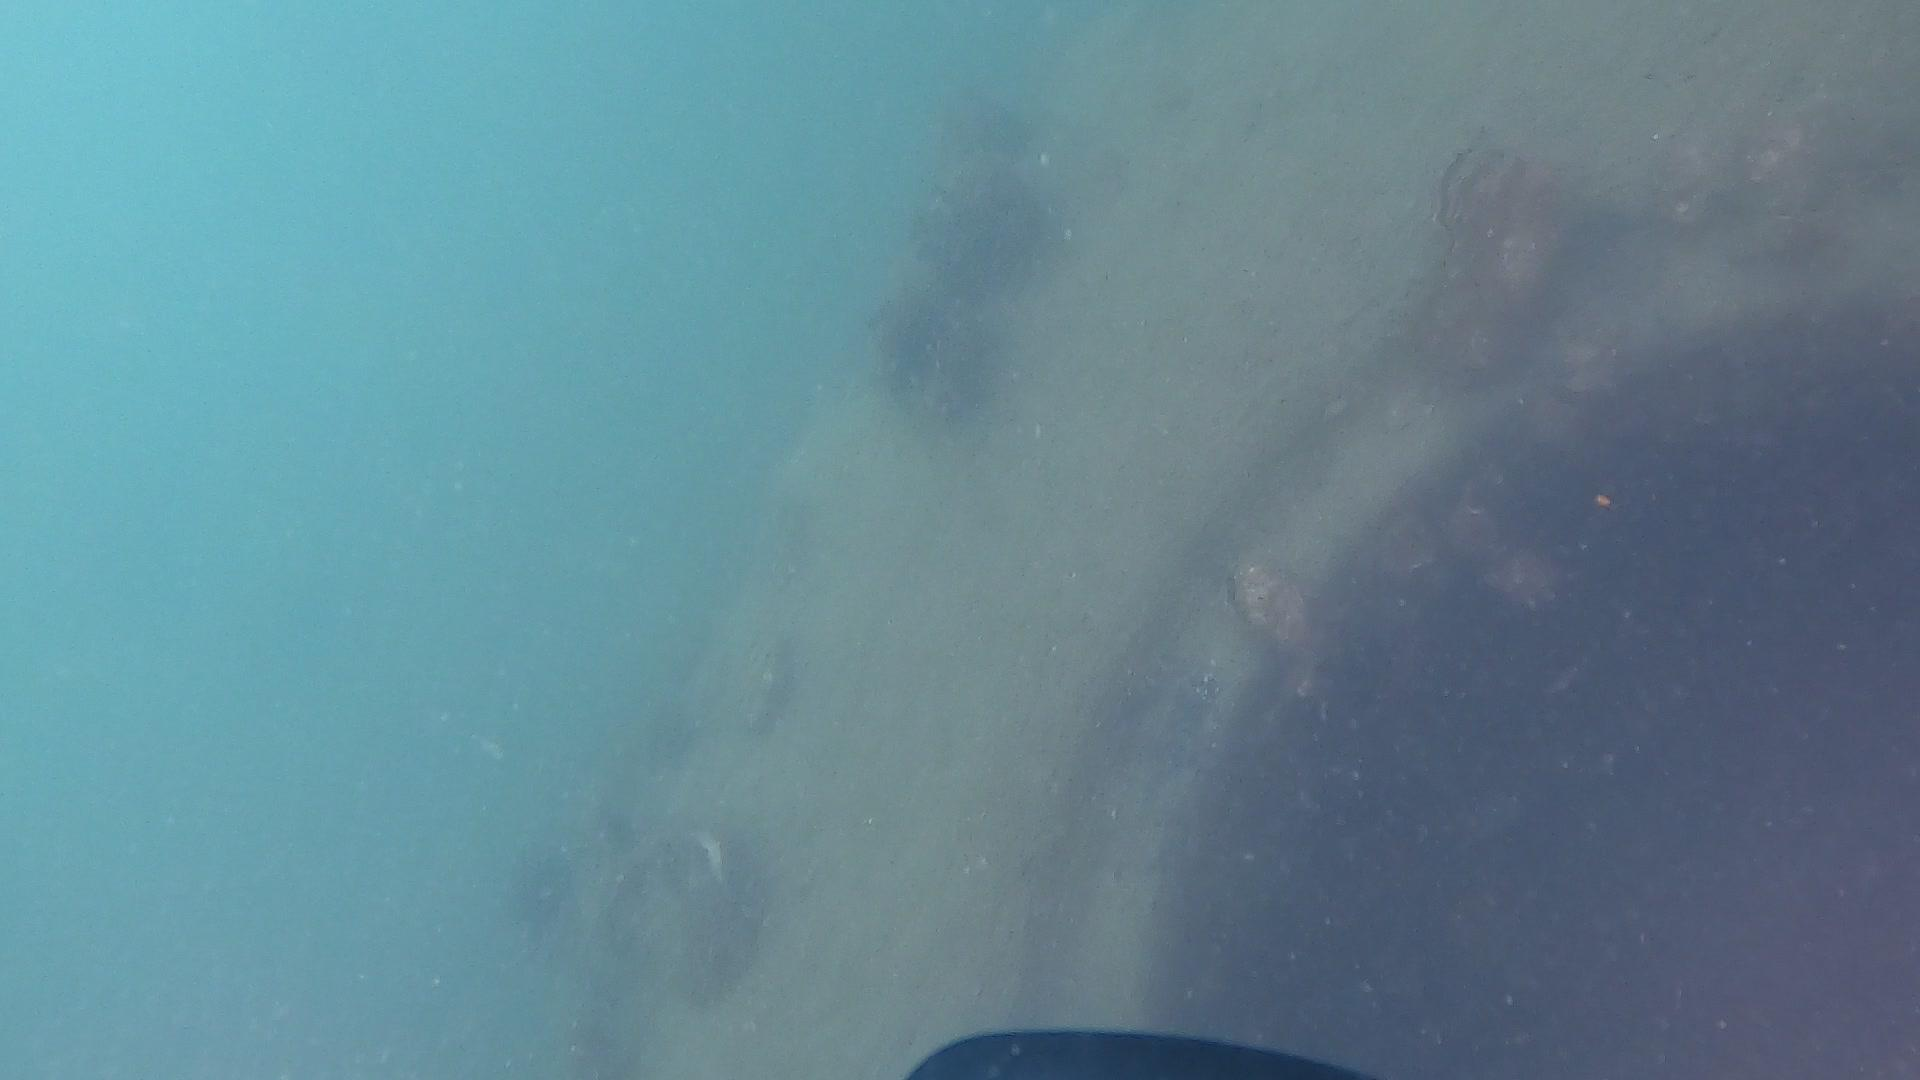tire: (572, 0, 1920, 1080)
